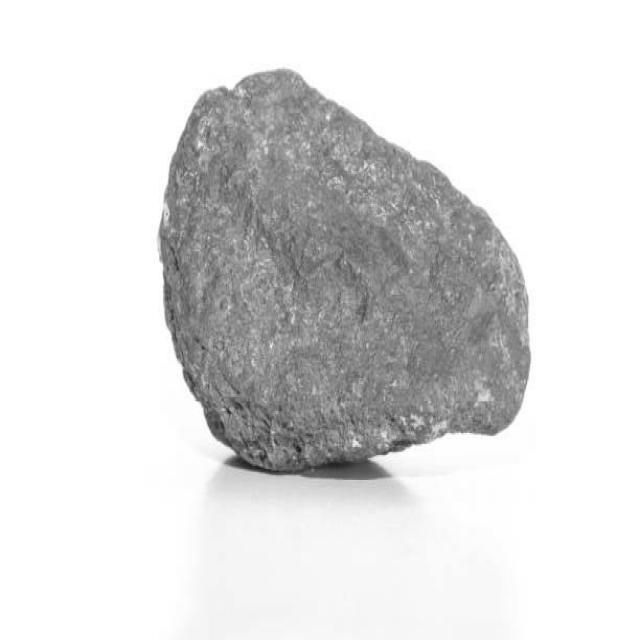Sedimentary: (148, 56, 546, 486)
